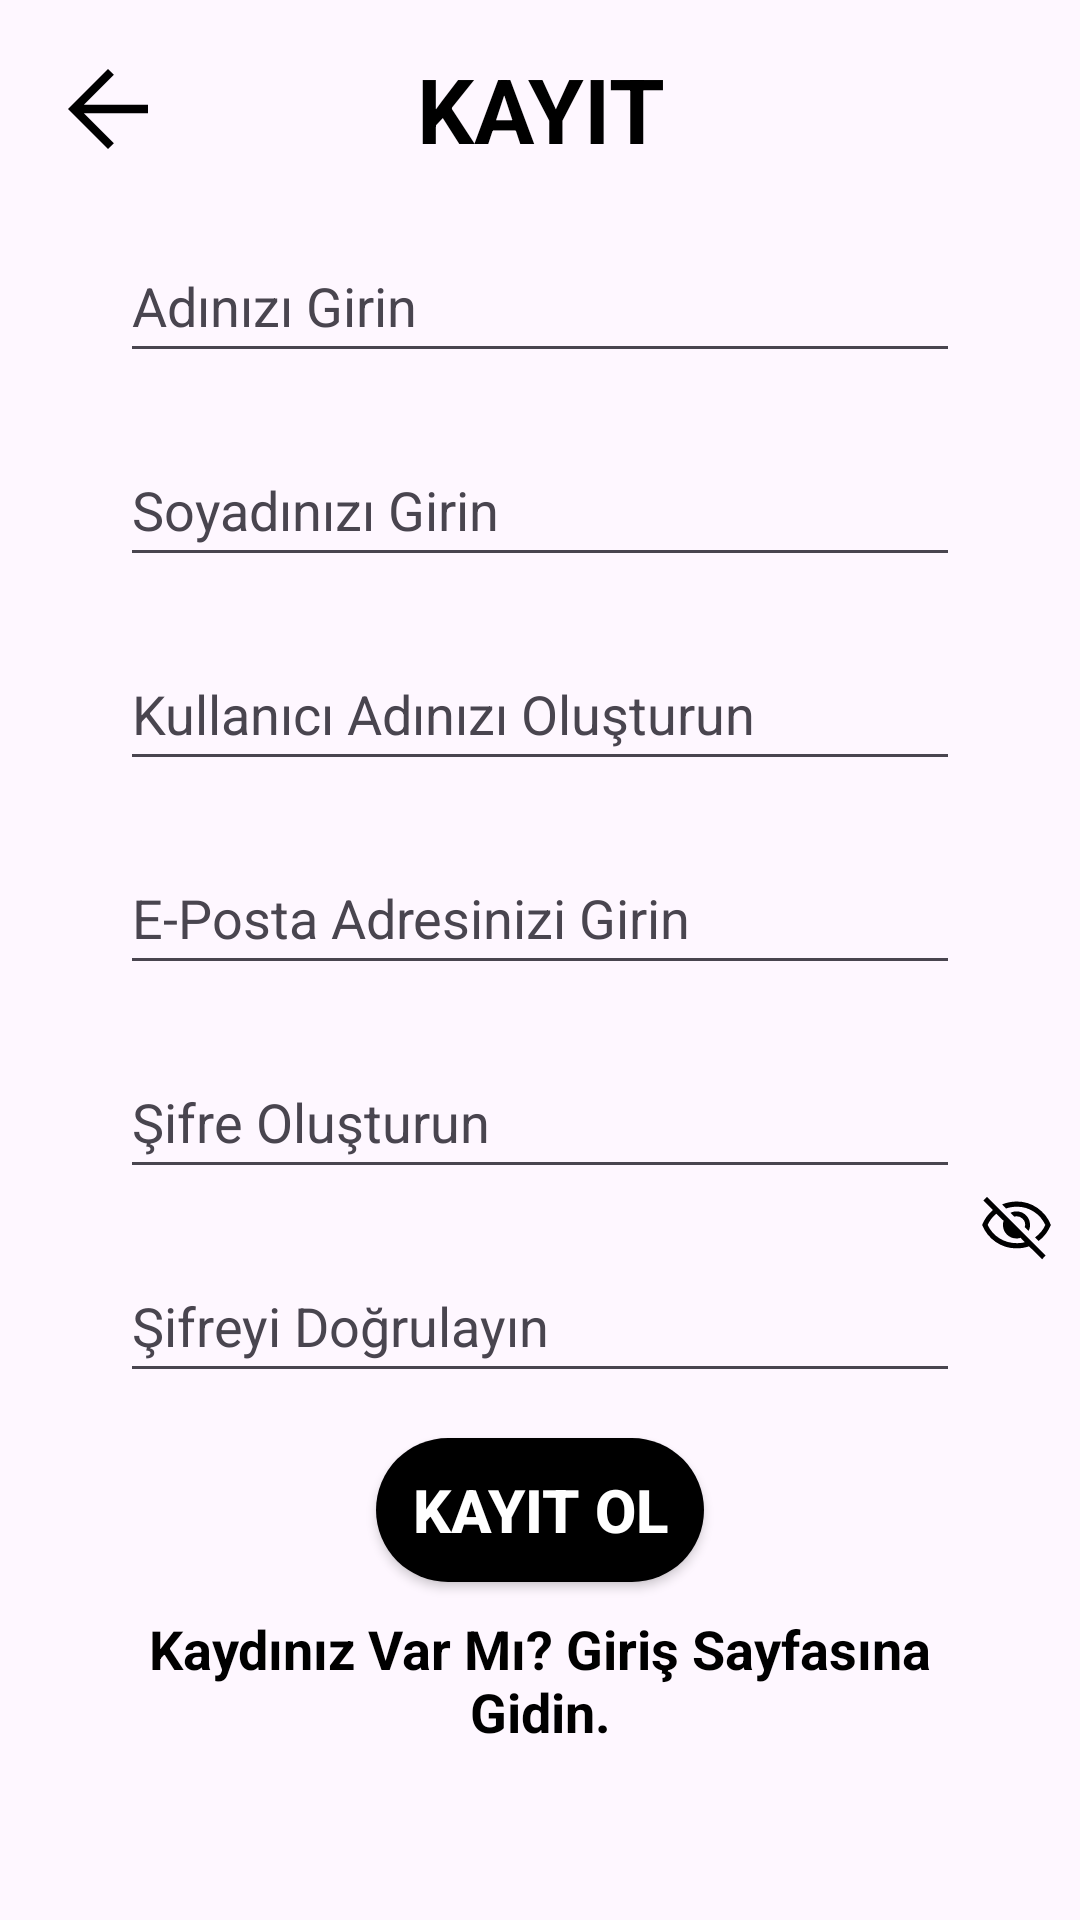

Icon click points for this 1080×1920 phone screenshot, format (x=x, y=y):
back: (x=108, y=109)
visibility off: (x=1016, y=1228)
